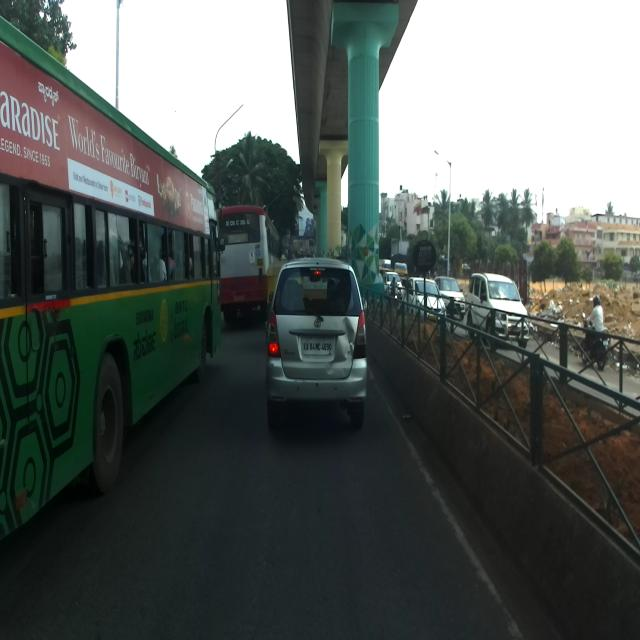bus ahead at: (0, 7, 227, 545)
car ahead at: (267, 254, 369, 426)
